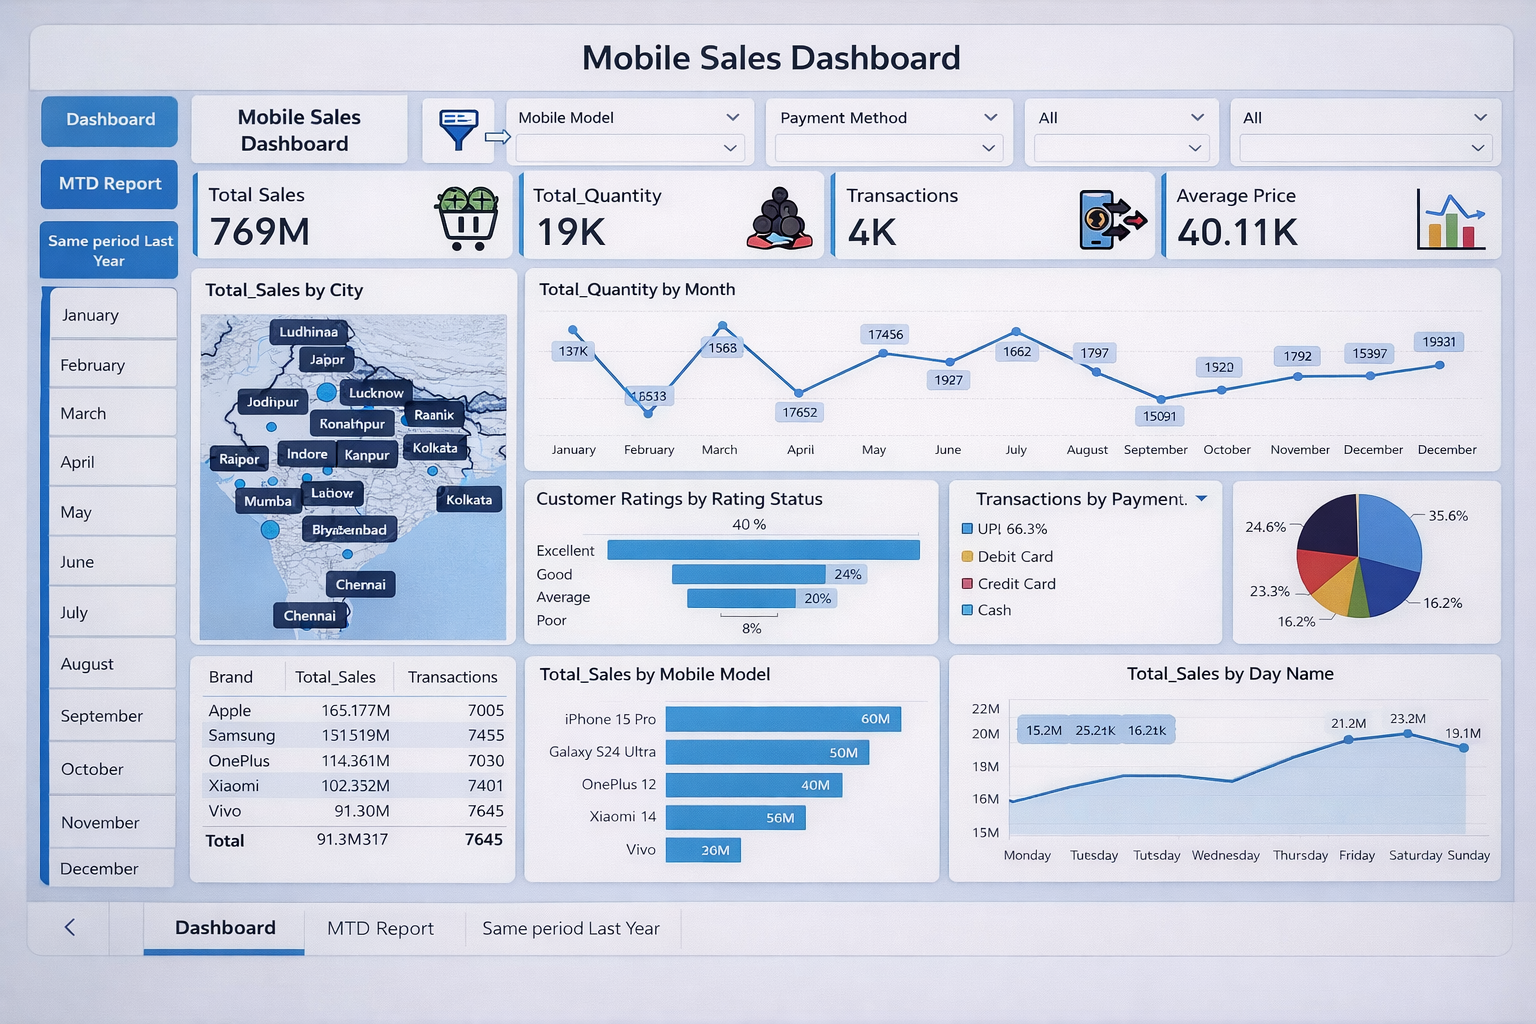

This screenshot's page, from the dashboard's own definition file:
{"tool":"powerbi","page":{"name":"Dashboard","canvas":[1280,720],"ordinal":0},"visuals":[{"type":"shape","box":[0,0,121.5,65],"z":0},{"type":"image","box":[27,0,66.3,68.7],"z":1000},{"type":"shape","box":[0,65,121.5,116.6],"z":2000},{"type":"shape","box":[0,181.6,121.5,533.7],"z":3000},{"type":"advancedSlicerVisual","fields":{"Values":["Custom_Calendar.Date.Variation.Date Hierarchy.Month"]},"box":[0,181.6,119,538.7],"z":4000},{"type":"cardVisual","fields":{"Data":["Sales_Data.Total_Sales","Sales_Data.Total_Quantity","Sales_Data.Transactions","Sales_Data.Average_price"]},"box":[132.5,65,1137.4,89.6],"z":5000},{"type":"slicer","fields":{"Values":["Sales_Data.Mobile Model"]},"box":[419.6,0,273.6,65],"z":6000},{"type":"slicer","fields":{"Values":["Sales_Data.Payment Method"]},"box":[701.8,0,277.3,65],"z":7000},{"type":"slicer","fields":{"Values":["Sales_Data.Brand"]},"box":[987.7,0,272.4,65],"z":8000},{"type":"shape","box":[331.3,0,79.8,65],"z":9000},{"type":"image","box":[336.2,4.9,69.9,55.2],"z":10000},{"type":"shape","box":[398.8,24.5,23.3,18.4],"z":11000},{"type":"shape","box":[132.5,0,190.2,65],"z":12000},{"type":"textbox","box":[160.7,0,146,61.4],"z":13000},{"type":"map","fields":{"Category":["Sales_Data.City"],"Size":["Sales_Data.Total_Sales"]},"box":[132.5,155,278.8,365],"z":14000},{"type":"lineChart","fields":{"Y":["Sales_Data.Total_Quantity"],"Category":["Custom_Calendar.Date.Variation.Date Hierarchy.Month"]},"box":[418.8,155,841.2,192.5],"z":15000},{"type":"funnel","title":"Customer Ratings by Rating Status","fields":{"Y":["CountNonNull(Sales_Data.Customer Ratings)"],"Category":["Sales_Data.Rating_Status"]},"box":[422.5,360,377.5,160],"z":16000},{"type":"pieChart","fields":{"Y":["Sales_Data.Transactions"],"Category":["Sales_Data.Payment Method"]},"box":[808.8,360,451.2,160],"z":17000},{"type":"clusteredBarChart","fields":{"Y":["Sales_Data.Total_Sales"],"Category":["Sales_Data.Mobile Model"]},"box":[422.5,528.8,377.5,186.2],"z":18000},{"type":"areaChart","fields":{"Y":["Sales_Data.Total_Sales"],"Category":["Custom_Calendar.Day Name"]},"box":[808.8,528.8,451.2,186.2],"z":19000},{"type":"tableEx","fields":{"Values":["Sales_Data.Brand","Sales_Data.Total_Sales","Sales_Data.Transactions"]},"box":[132.5,528.8,280,187.5],"z":20000},{"type":"pageNavigator","box":[2.5,68.7,119,104.3],"z":21000}]}

Visuals, with their boxes on the page's 1280x720 design canvas (x1, y1, x2, y2). These are canvas units, not pixel positions in the 1536x1024 screenshot, which may show the page scaled, cropped or inside an application window:
shape: pyautogui.locateOnScreen(0, 0, 122, 65)
image: pyautogui.locateOnScreen(27, 0, 93, 69)
shape: pyautogui.locateOnScreen(0, 65, 122, 182)
shape: pyautogui.locateOnScreen(0, 182, 122, 715)
advancedSlicerVisual - Custom_Calendar.Date.Variation.Date Hierarchy.Month: pyautogui.locateOnScreen(0, 182, 119, 720)
cardVisual - Sales_Data.Total_Sales x Sales_Data.Total_Quantity: pyautogui.locateOnScreen(132, 65, 1270, 155)
slicer - Sales_Data.Mobile Model: pyautogui.locateOnScreen(420, 0, 693, 65)
slicer - Sales_Data.Payment Method: pyautogui.locateOnScreen(702, 0, 979, 65)
slicer - Sales_Data.Brand: pyautogui.locateOnScreen(988, 0, 1260, 65)
shape: pyautogui.locateOnScreen(331, 0, 411, 65)
image: pyautogui.locateOnScreen(336, 5, 406, 60)
shape: pyautogui.locateOnScreen(399, 24, 422, 43)
shape: pyautogui.locateOnScreen(132, 0, 323, 65)
textbox: pyautogui.locateOnScreen(161, 0, 307, 61)
map - Sales_Data.City x Sales_Data.Total_Sales: pyautogui.locateOnScreen(132, 155, 411, 520)
lineChart - Sales_Data.Total_Quantity x Custom_Calendar.Date.Variation.Date Hierarchy.Month: pyautogui.locateOnScreen(419, 155, 1260, 348)
"Customer Ratings by Rating Status" funnel: pyautogui.locateOnScreen(422, 360, 800, 520)
pieChart - Sales_Data.Transactions x Sales_Data.Payment Method: pyautogui.locateOnScreen(809, 360, 1260, 520)
clusteredBarChart - Sales_Data.Total_Sales x Sales_Data.Mobile Model: pyautogui.locateOnScreen(422, 529, 800, 715)
areaChart - Sales_Data.Total_Sales x Custom_Calendar.Day Name: pyautogui.locateOnScreen(809, 529, 1260, 715)
tableEx - Sales_Data.Brand x Sales_Data.Total_Sales: pyautogui.locateOnScreen(132, 529, 412, 716)
pageNavigator: pyautogui.locateOnScreen(2, 69, 122, 173)
